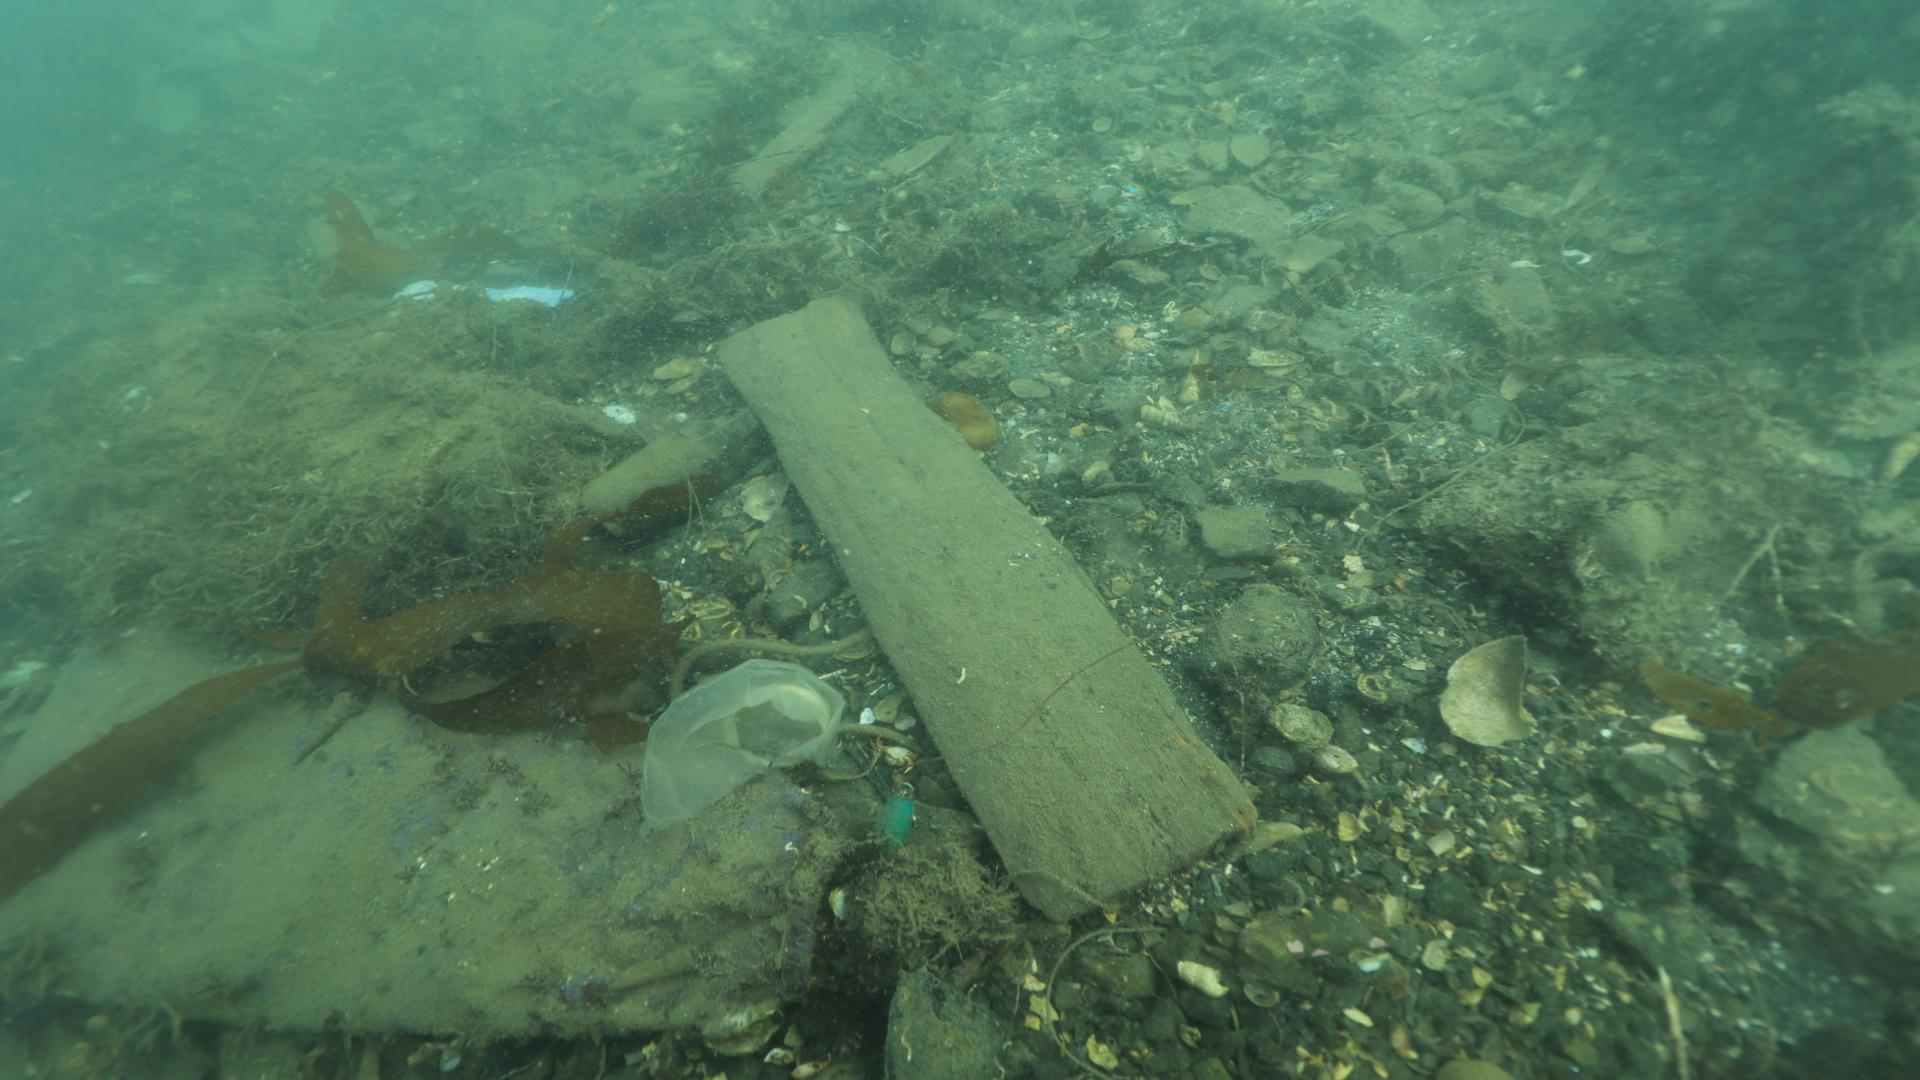wood: (711, 291, 1271, 926)
